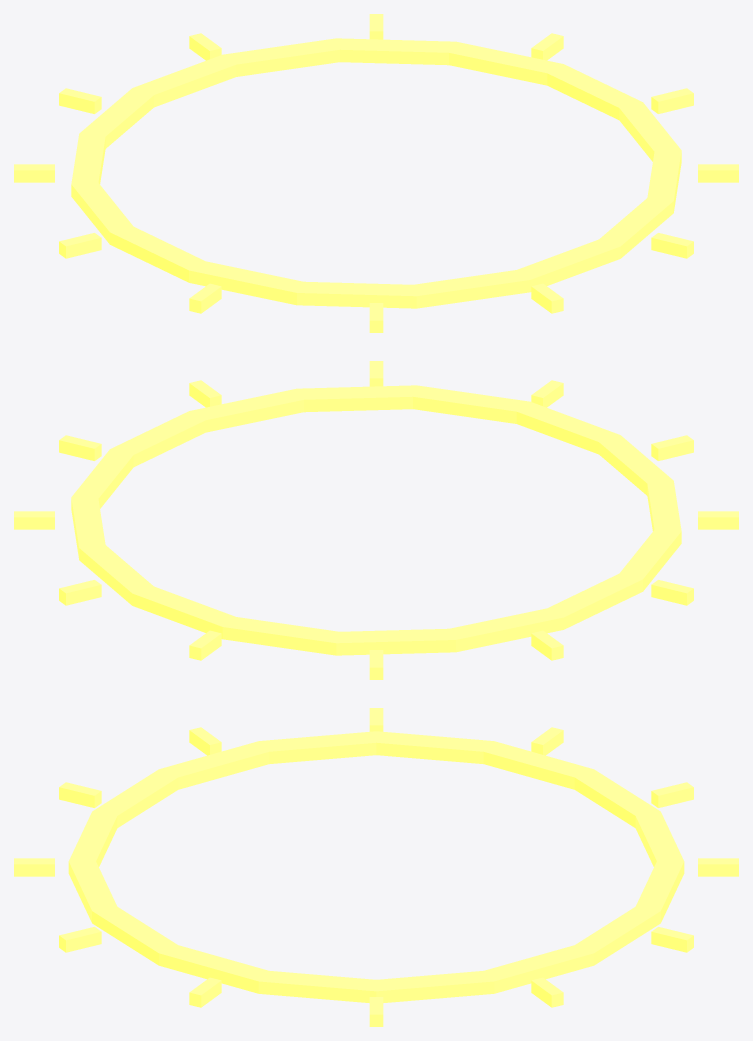
File: fx_wait_ring_day.glb
3 views of the same model, one above another, from view 1: azimuth 30°, elevation 25°; view 2: azimuth 150°, elevation 25°; view 3: azimuth 270°, elevation 25° (orthographic).
Visible parts, largest first — view 1: fx_wait_ring_day; view 2: fx_wait_ring_day; view 3: fx_wait_ring_day.
Part boxes in pixels (x1=…): fx_wait_ring_day: x1=14, y1=14, x2=738, y2=332; fx_wait_ring_day: x1=14, y1=361, x2=738, y2=679; fx_wait_ring_day: x1=14, y1=708, x2=738, y2=1026.
Size of the model in its own units: 2.12 by 0.04 by 2.12.
